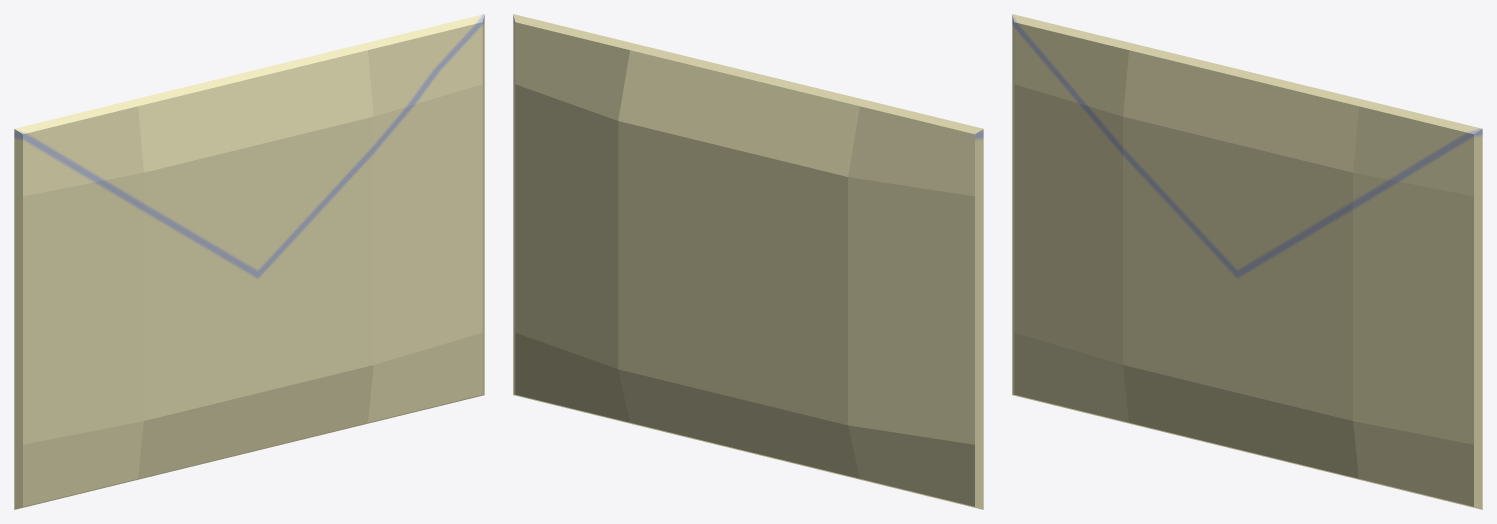
The model's file is sobre.fbx.
The picture shows the model from 3 angles, left to right: view 1: azimuth 30°, elevation 25°; view 2: azimuth 150°, elevation 25°; view 3: azimuth 330°, elevation 25°; orthographic projection.
Visible parts, largest first — view 1: carta; view 2: carta; view 3: carta.
Boxes of the visible parts, x1,y1,x2,y2 form: carta: (14, 14, 484, 509); carta: (513, 14, 983, 509); carta: (1012, 14, 1482, 509).
Size of the model in its own units: 28.55 by 22.1 by 2.6.
